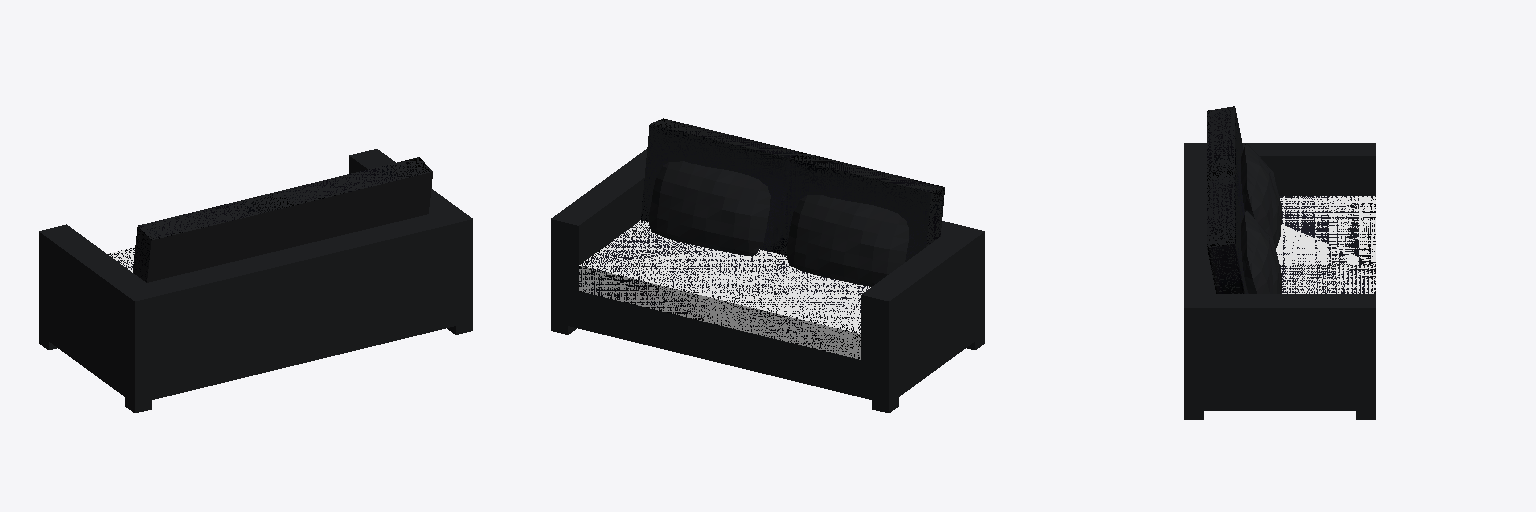
3 renders of one model, left to right at view 1: azimuth 30°, elevation 25°; view 2: azimuth 150°, elevation 25°; view 3: azimuth 270°, elevation 25°, orthographic.
Parts seen in each view (by area): view 1: mesh3_mesh3-geometry, mesh7_mesh7-geometry, mesh6_mesh6-geometry; view 2: mesh3_mesh3-geometry, mesh8_mesh8-geometry, mesh2_mesh2-geometry, mesh1_mesh1-geometry, mesh6_mesh6-geometry, mesh7_mesh7-geometry; view 3: mesh3_mesh3-geometry, mesh1_mesh1-geometry, mesh8_mesh8-geometry, mesh6_mesh6-geometry, mesh2_mesh2-geometry, mesh7_mesh7-geometry.
Part boxes in pixels (x1,y1,x2,y2): mesh3_mesh3-geometry: (39, 149, 472, 412); mesh7_mesh7-geometry: (133, 192, 291, 282); mesh6_mesh6-geometry: (278, 157, 432, 247); mesh3_mesh3-geometry: (551, 149, 984, 412); mesh8_mesh8-geometry: (649, 161, 908, 286); mesh2_mesh2-geometry: (579, 220, 780, 324); mesh1_mesh1-geometry: (720, 255, 870, 359); mesh6_mesh6-geometry: (641, 118, 802, 254); mesh7_mesh7-geometry: (782, 153, 944, 261); mesh3_mesh3-geometry: (1184, 143, 1375, 419); mesh1_mesh1-geometry: (1276, 196, 1375, 264); mesh8_mesh8-geometry: (1241, 143, 1281, 293); mesh6_mesh6-geometry: (1207, 175, 1247, 293); mesh2_mesh2-geometry: (1280, 265, 1375, 293); mesh7_mesh7-geometry: (1207, 106, 1244, 216).
Size of the model in its own units: 0.8299 by 0.38 by 0.4085.
Materials: 13 (10 with a texture image).